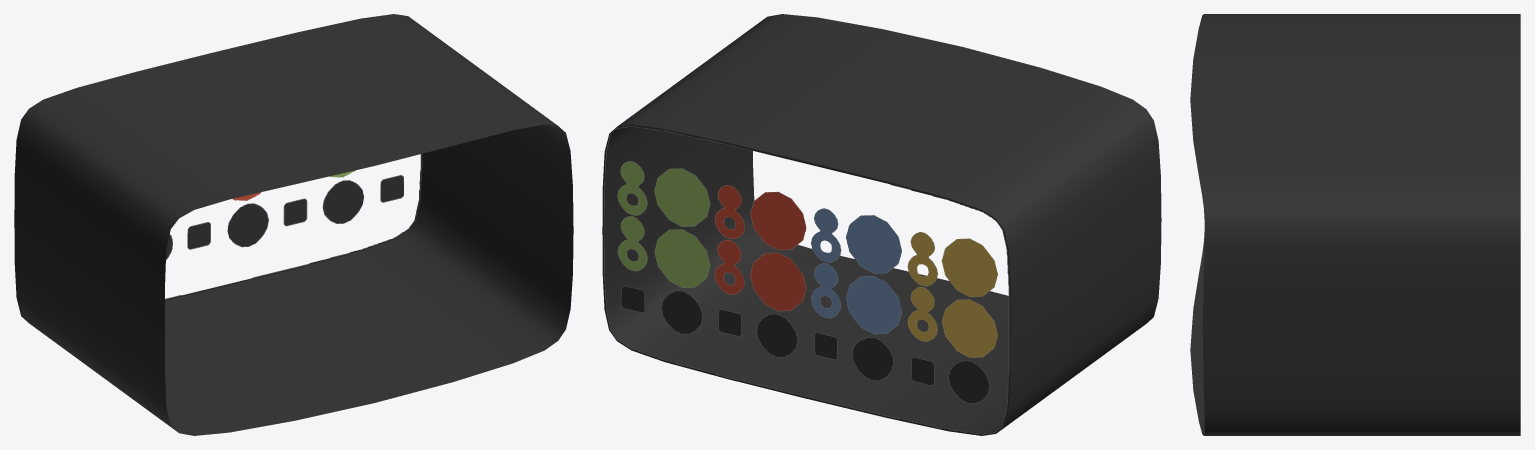
Rendered from IVGD Arcade Tube.fbx.
3 renders of one model, left to right at view 1: azimuth 30°, elevation 25°; view 2: azimuth 150°, elevation 25°; view 3: azimuth 270°, elevation 25°, orthographic. The views are drawn at different scales.
Parts seen in each view (by area): view 1: IVGD Arcade Tube; view 2: IVGD Arcade Tube; view 3: IVGD Arcade Tube.
Part boxes in pixels (<box>): IVGD Arcade Tube: <box>14,14,573,435</box>; IVGD Arcade Tube: <box>602,14,1161,435</box>; IVGD Arcade Tube: <box>1190,14,1520,435</box>.
Size of the model in its own units: 92.69 by 51.43 by 61.55.
